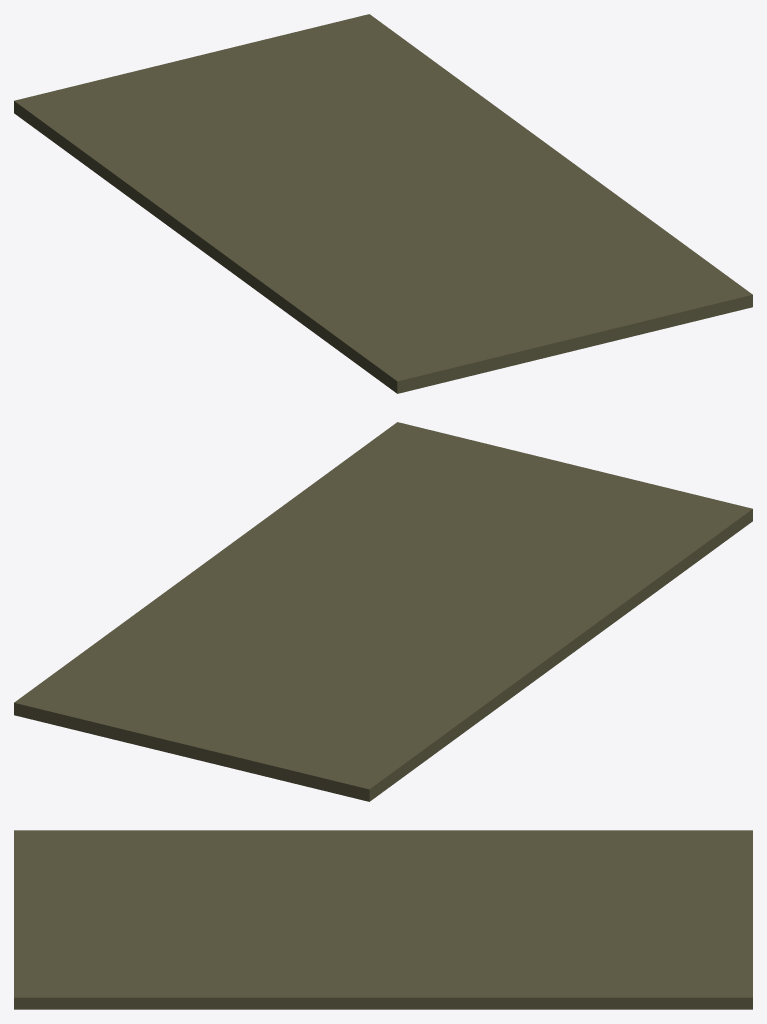
The model's file is Road_02.fbx.
3 renders of one model, top to bottom at view 1: azimuth 30°, elevation 25°; view 2: azimuth 150°, elevation 25°; view 3: azimuth 270°, elevation 25°, orthographic. The views are drawn at different scales.
Parts seen in each view (by area): view 1: Road_02; view 2: Road_02; view 3: Road_02.
Part boxes in pixels (<box>): Road_02: <box>14,14,752,393</box>; Road_02: <box>14,422,752,801</box>; Road_02: <box>14,830,752,1009</box>.
Size of the model in its own units: 164 by 5.51 by 307.
